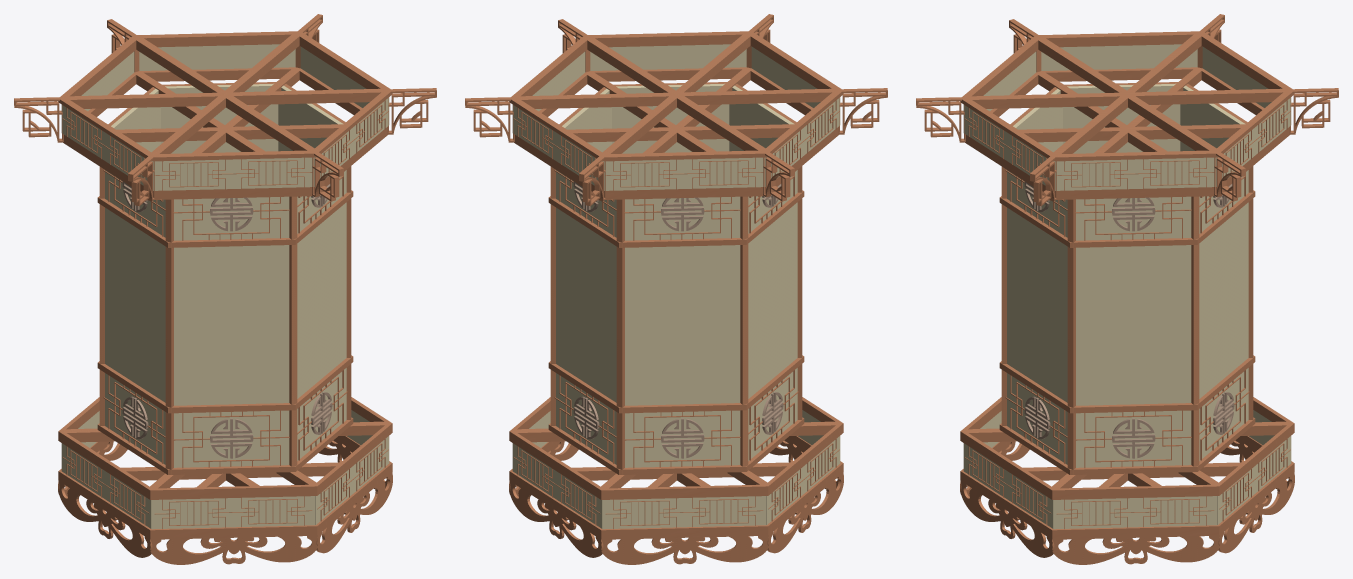
Rendered from lantern.glb.
The picture shows the model from 3 angles, left to right: view 1: azimuth 30°, elevation 25°; view 2: azimuth 150°, elevation 25°; view 3: azimuth 270°, elevation 25°; orthographic projection.
Parts seen in each view (by area): view 1: G-Object, G-Object.116, G-Object.010, G-Object.011, G-Object.117, G-Object.016, G-Object.023, G-Object.018, G-Object.217, G-Object.020, G-Object.017, G-Object.003 (+23 smaller); view 2: G-Object, G-Object.116, G-Object.010, G-Object.011, G-Object.117, G-Object.012, G-Object.021, G-Object.018, G-Object.214, G-Object.022, G-Object.013, G-Object.001 (+23 smaller); view 3: G-Object, G-Object.116, G-Object.010, G-Object.011, G-Object.117, G-Object.014, G-Object.024, G-Object.018, G-Object.212, G-Object.019, G-Object.015, G-Object.005 (+23 smaller).
Part boxes in pixels (bbox=[...]): G-Object: bbox=[105, 83, 346, 467]; G-Object.116: bbox=[64, 32, 386, 155]; G-Object.010: bbox=[62, 67, 388, 199]; G-Object.011: bbox=[58, 397, 392, 499]; G-Object.117: bbox=[58, 436, 392, 539]; G-Object.016: bbox=[152, 496, 315, 529]; G-Object.023: bbox=[152, 157, 314, 190]; G-Object.018: bbox=[58, 31, 392, 161]; G-Object.217: bbox=[150, 536, 318, 564]; G-Object.020: bbox=[139, 44, 295, 70]; G-Object.017: bbox=[61, 443, 151, 528]; G-Object.003: bbox=[165, 199, 173, 474]; G-Object: bbox=[556, 83, 797, 467]; G-Object.116: bbox=[515, 32, 837, 155]; G-Object.010: bbox=[513, 67, 839, 199]; G-Object.011: bbox=[509, 397, 843, 499]; G-Object.117: bbox=[509, 436, 843, 539]; G-Object.012: bbox=[603, 496, 766, 529]; G-Object.021: bbox=[603, 157, 765, 190]; G-Object.018: bbox=[509, 31, 843, 161]; G-Object.214: bbox=[601, 536, 769, 564]; G-Object.022: bbox=[590, 44, 746, 70]; G-Object.013: bbox=[512, 443, 602, 528]; G-Object.001: bbox=[616, 199, 624, 474]; G-Object: bbox=[1007, 83, 1248, 467]; G-Object.116: bbox=[966, 32, 1288, 155]; G-Object.010: bbox=[964, 67, 1290, 199]; G-Object.011: bbox=[960, 397, 1294, 499]; G-Object.117: bbox=[960, 436, 1294, 539]; G-Object.014: bbox=[1054, 496, 1217, 529]; G-Object.024: bbox=[1054, 157, 1216, 190]; G-Object.018: bbox=[960, 31, 1294, 161]; G-Object.212: bbox=[1052, 536, 1220, 564]; G-Object.019: bbox=[1041, 44, 1197, 70]; G-Object.015: bbox=[963, 443, 1053, 528]; G-Object.005: bbox=[1067, 199, 1075, 474].
Bounding box in the file's own units: 158 × 188 × 176.
3 materials, 2 textured.
